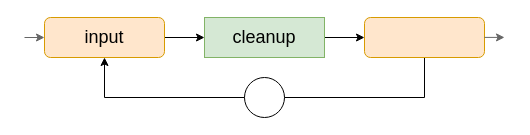
The diagram is 530 pixels wide and 135 high, and some of its shapes have lost their labels. The centre of each missing label's shape, as x and y in pixels:
output: point 424,37
×α: point 264,97
